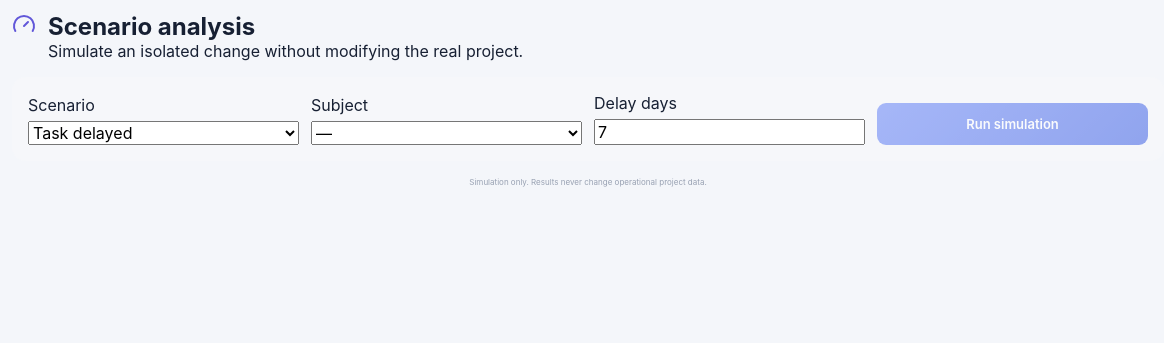
Scenario: operational AI workspace › runs a typed simulation and labels it as non-mutating
Expected: the text "Simulation only. Results never change operational project data." is shown, [469,177,707,187]
Select "Launch" in the dropdown labelled "Subject" at (446, 133), box [311,121,582,145]
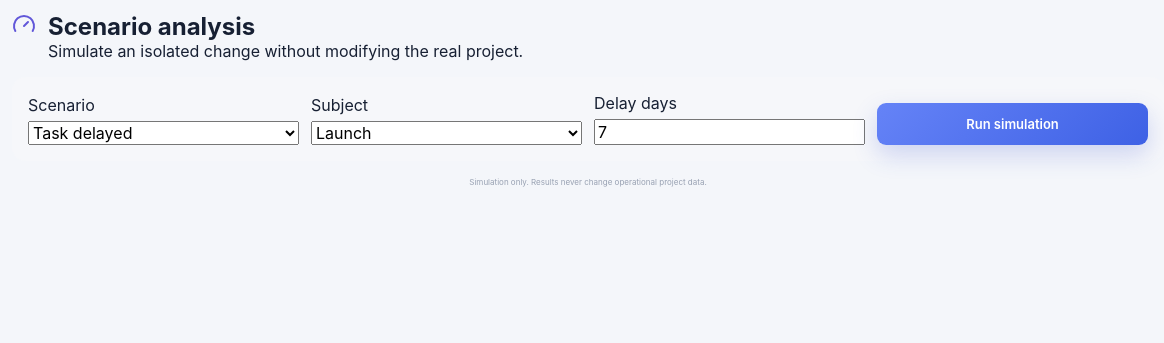
Click the button "Run simulation" at (1012, 124), box [877,103,1148,145]
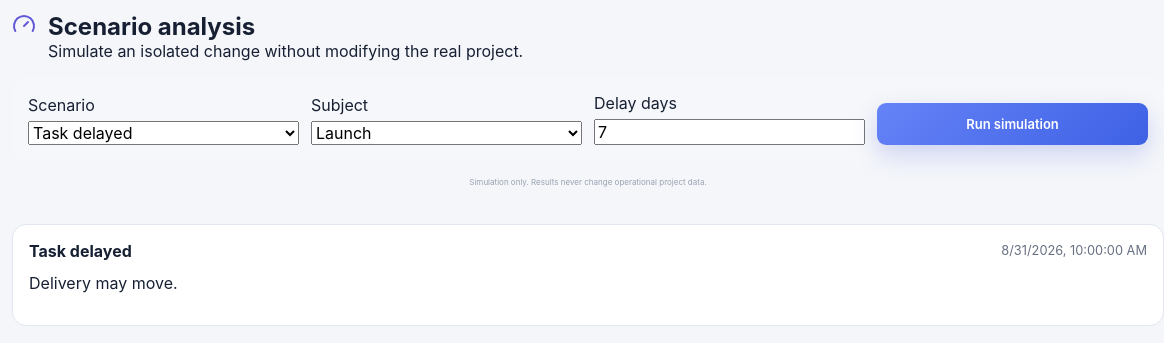
Expected: the text "Delivery may move." is shown, [29,273,178,293]
